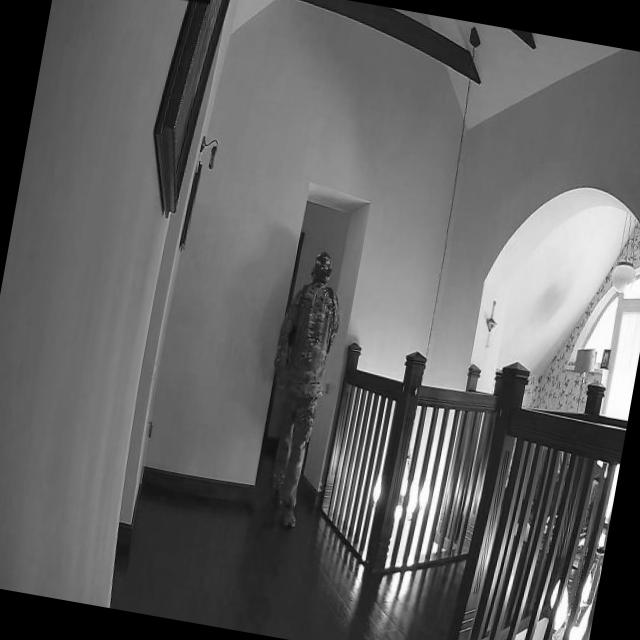person: (247, 244, 351, 530)
